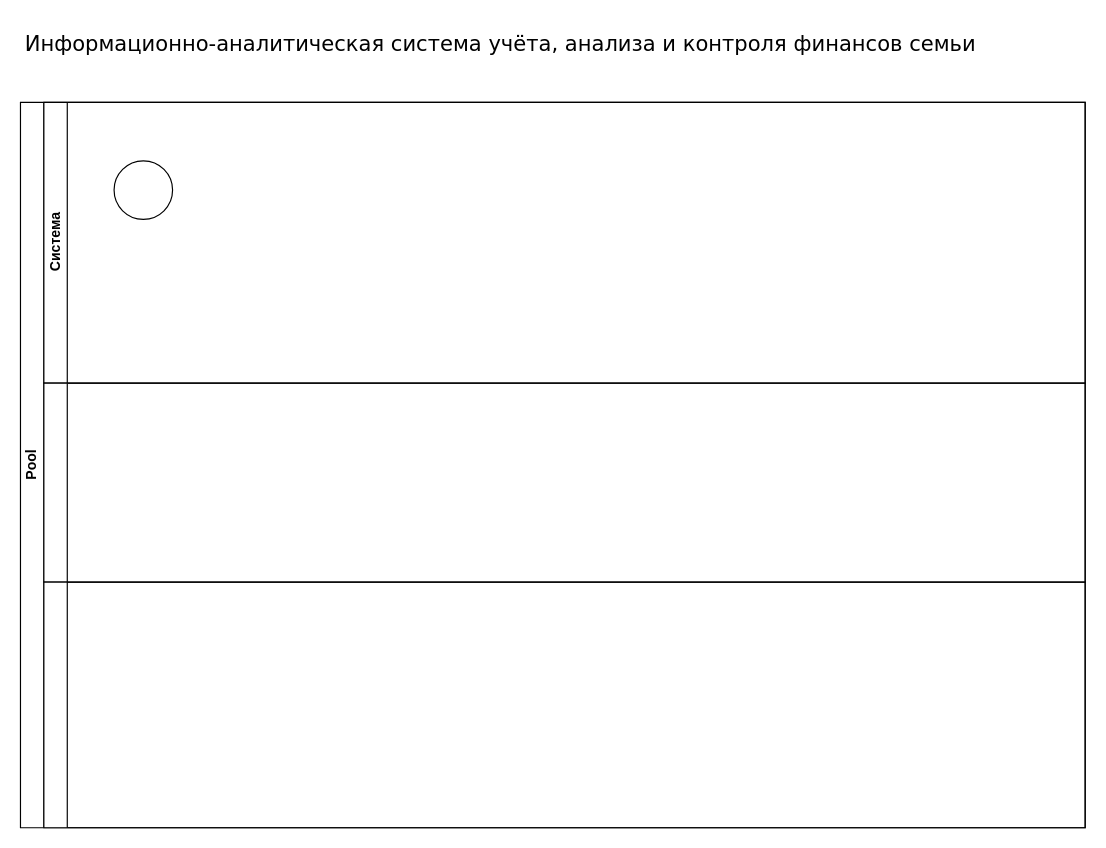
This 1106x848 diagram has some shape labels left out. The centre of each missing label's shape, as x and y in pixels:
"Банк" goes at (x=564, y=482).
"Пользователь" goes at (x=564, y=704).
